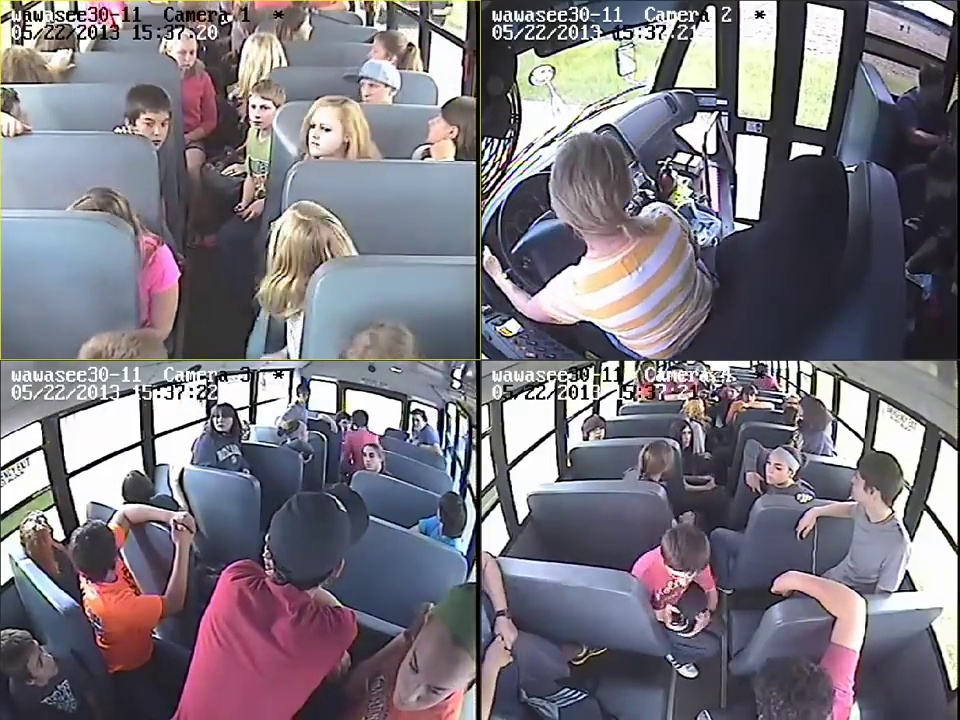face: (396, 634, 457, 708), (308, 110, 340, 152), (137, 111, 166, 149), (762, 455, 794, 484), (249, 97, 274, 129), (358, 78, 392, 100), (176, 44, 197, 75), (362, 447, 376, 470), (585, 422, 605, 438), (213, 413, 229, 431)
